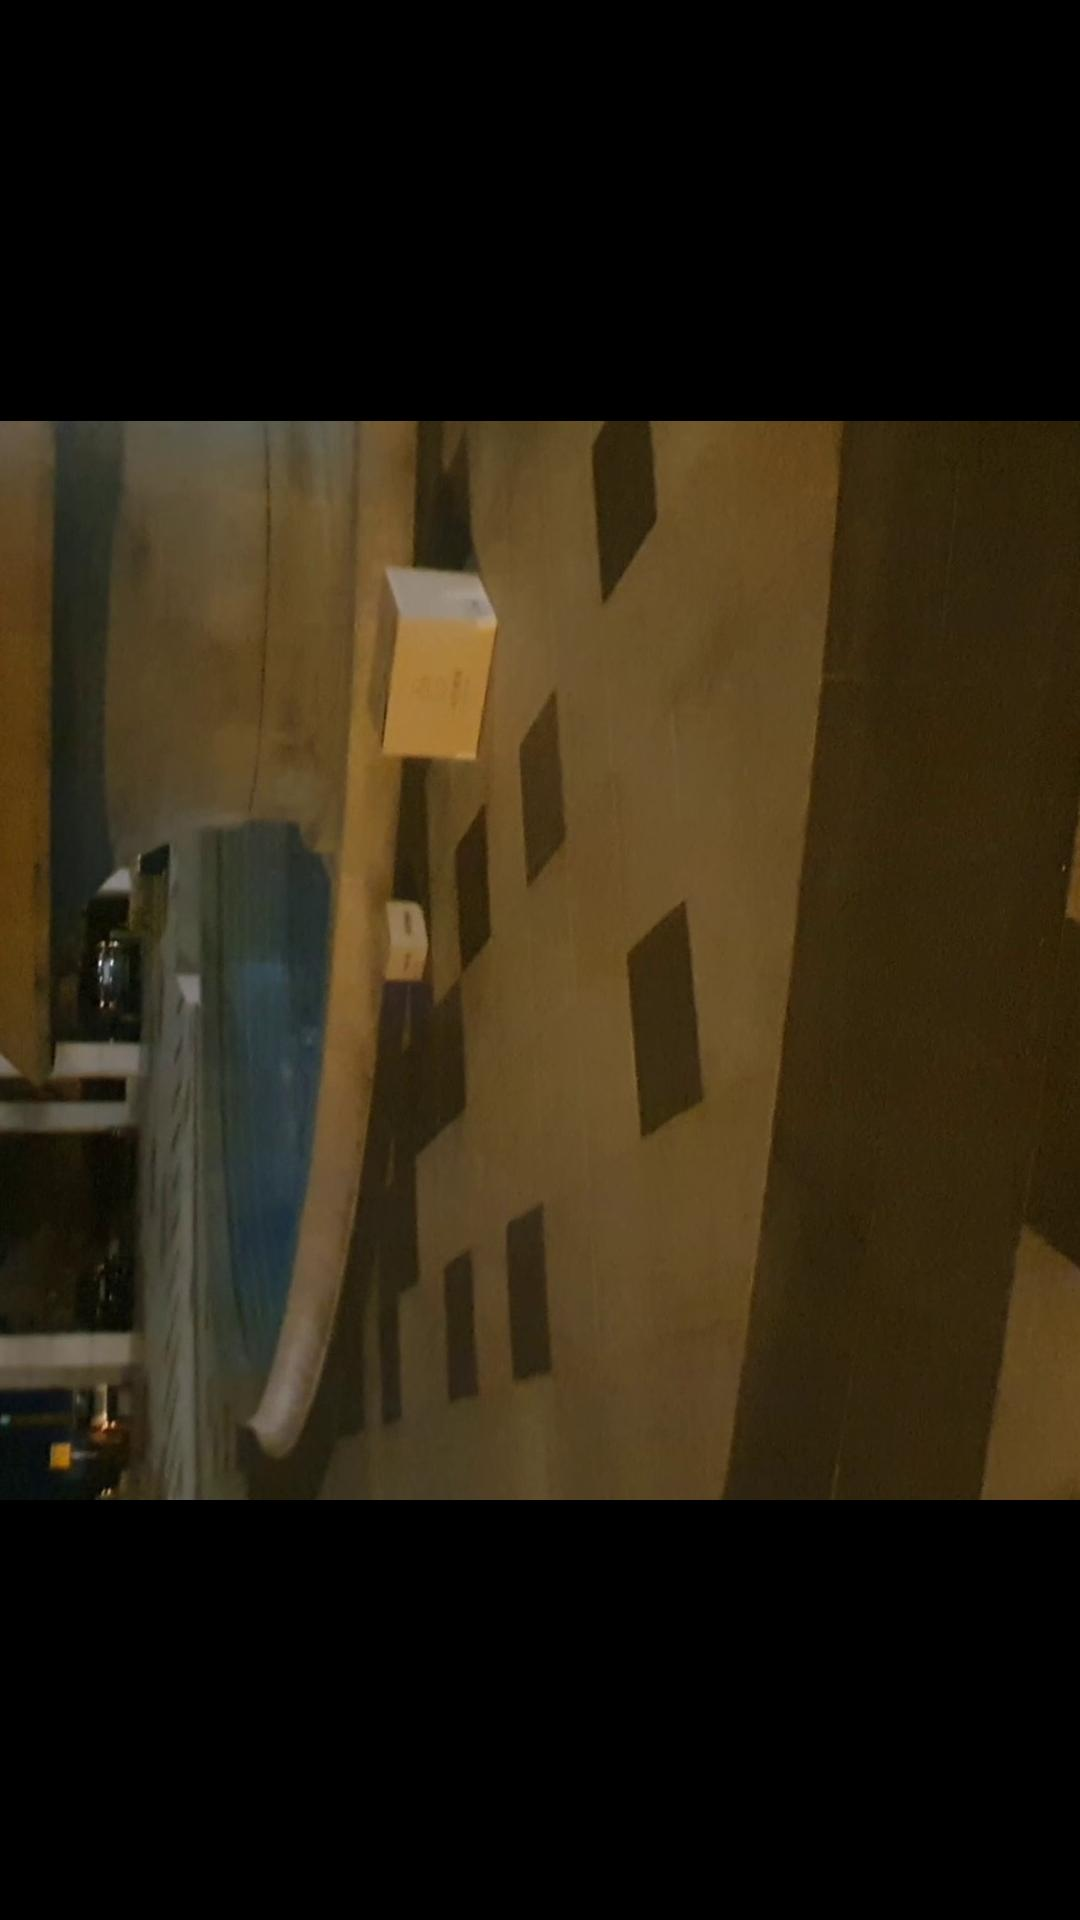Box: (365, 558, 497, 771), (365, 899, 435, 994)
